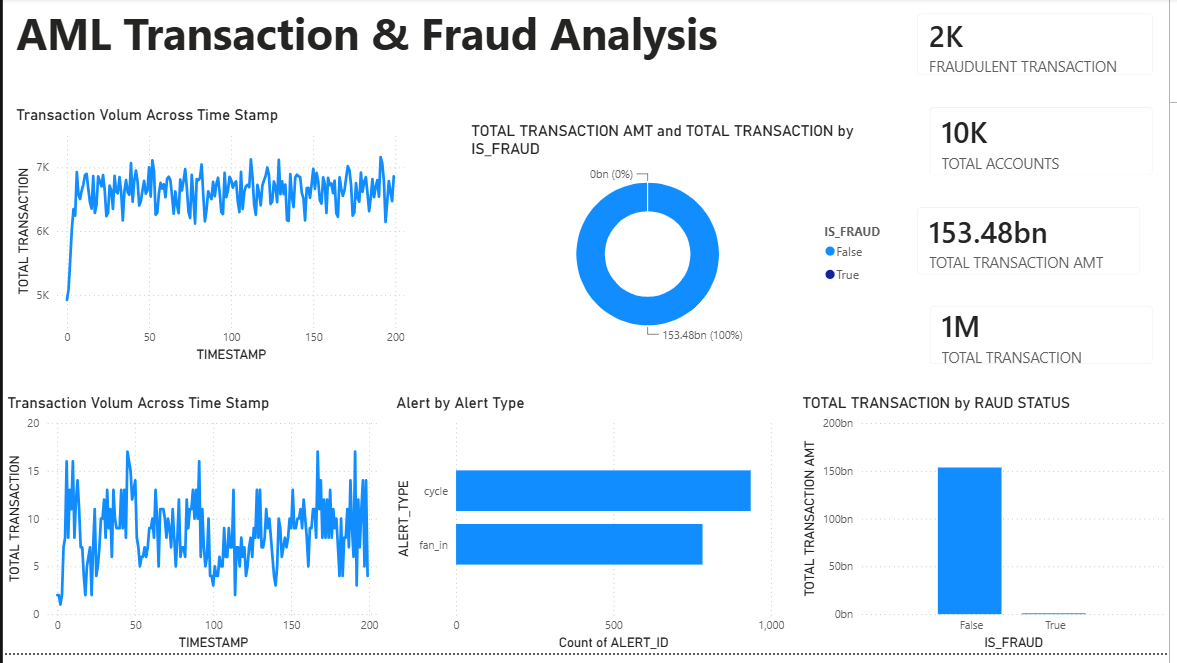

The dashboard page shown, as its layout file describes it:
{"tool":"powerbi","page":{"name":"Page 1","canvas":[1280,720],"ordinal":0},"visuals":[{"type":"textbox","box":[9.6,0,1270.7,102.9],"z":0},{"type":"cardVisual","fields":{"Data":["Transactions.TOTAL TRANSACTION"]},"box":[1000.3,321.1,279.9,98.8],"z":1000},{"type":"cardVisual","fields":{"Data":["Accounts.TOTAL ACCOUNTS"]},"box":[1000.3,102.9,279.9,109.8],"z":2000},{"type":"cardVisual","fields":{"Data":["Transactions.FRAUDULENT TRANSACTION"]},"box":[986.6,0,293.7,102.9],"z":3000},{"type":"cardVisual","fields":{"Data":["Transactions.TOTAL TRANSACTION AMT"]},"box":[986.6,212.7,279.9,108.4],"z":4000},{"type":"lineChart","title":"Transaction Volum Across Time Stamp","fields":{"Category":["Transactions.TIMESTAMP"],"Y":["Transactions.TOTAL TRANSACTION"]},"box":[9.6,118,436.4,286.8],"z":5000},{"type":"donutChart","fields":{"Category":["Transactions.IS_FRAUD"],"Y":["Transactions.TOTAL TRANSACTION AMT","Transactions.TOTAL TRANSACTION"]},"box":[509.1,135.8,477.5,252.5],"z":6000},{"type":"clusteredBarChart","title":"Alert by Alert Type","fields":{"Category":["Alerts.ALERT_TYPE"],"Y":["CountNonNull(Alerts.ALERT_ID)"]},"box":[426.8,433.6,436.4,286.8],"z":6001},{"type":"clusteredColumnChart","title":"TOTAL TRANSACTION  by RAUD STATUS","fields":{"Category":["Transactions.IS_FRAUD"],"Y":["Transactions.TOTAL TRANSACTION AMT"]},"box":[872.7,433.6,407.5,286.8],"z":6002},{"type":"lineChart","title":"Transaction Volum Across Time Stamp","fields":{"Category":["Transactions.TIMESTAMP"],"Y":["Transactions.TOTAL TRANSACTION"]},"box":[0,433.6,417.2,286.8],"z":6003}]}

Visuals, with their boxes in screenshot pixels (x1, y1, x2, y2), scaled from the page's 1280x720 canvas onto the 1177x663 screenshot:
textbox: x1=9, y1=0, x2=1176, y2=95
cardVisual - Transactions.TOTAL TRANSACTION: x1=920, y1=296, x2=1176, y2=387
cardVisual - Accounts.TOTAL ACCOUNTS: x1=920, y1=95, x2=1176, y2=196
cardVisual - Transactions.FRAUDULENT TRANSACTION: x1=907, y1=0, x2=1176, y2=95
cardVisual - Transactions.TOTAL TRANSACTION AMT: x1=907, y1=196, x2=1165, y2=296
"Transaction Volum Across Time Stamp" lineChart: x1=9, y1=109, x2=410, y2=373
donutChart - Transactions.IS_FRAUD x Transactions.TOTAL TRANSACTION AMT: x1=468, y1=125, x2=907, y2=358
"Alert by Alert Type" clusteredBarChart: x1=392, y1=399, x2=794, y2=662
"TOTAL TRANSACTION  by RAUD STATUS" clusteredColumnChart: x1=802, y1=399, x2=1176, y2=662
"Transaction Volum Across Time Stamp" lineChart: x1=0, y1=399, x2=384, y2=662
